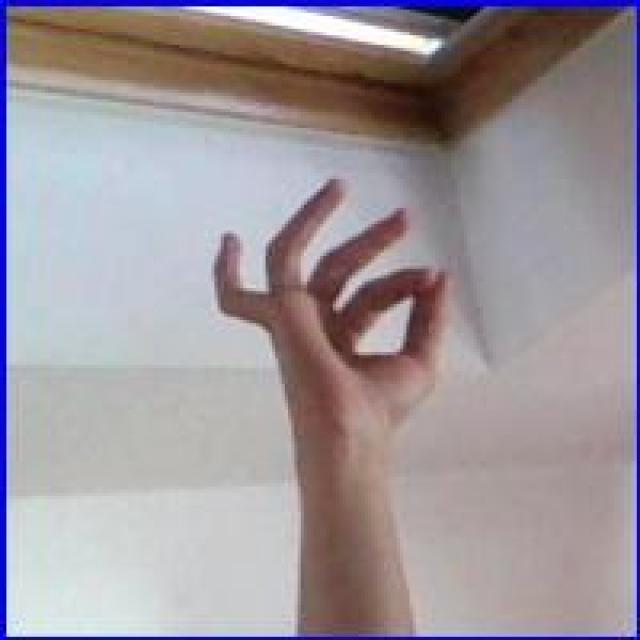F: (211, 171, 458, 453)
